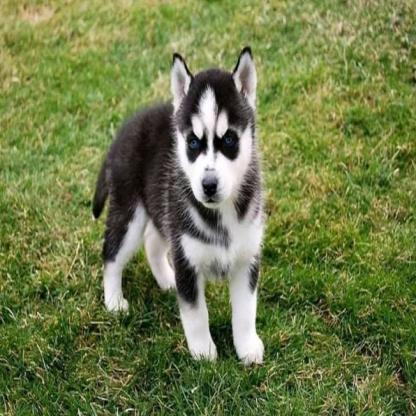husky: (93, 50, 267, 366)
